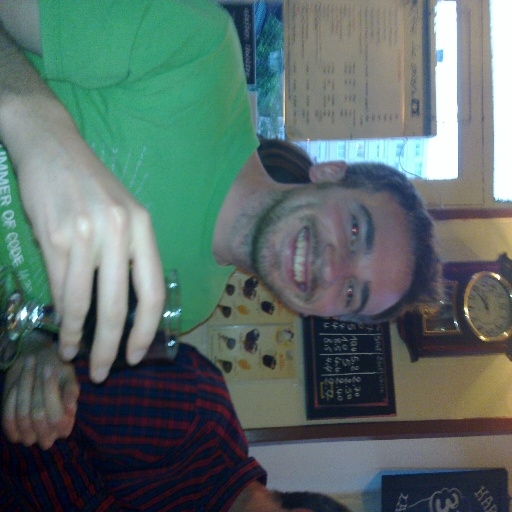hand: (22, 97, 166, 379), (0, 346, 80, 452)
